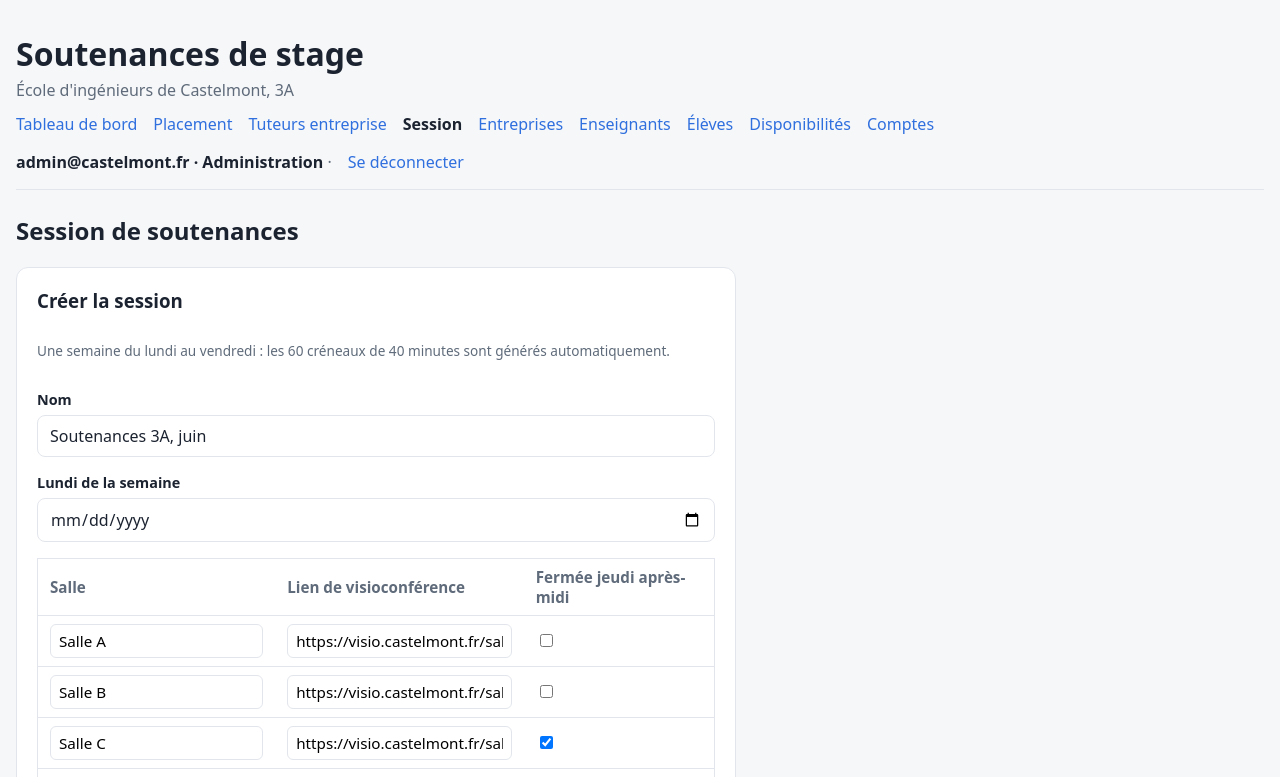
Test: SessionPage › says so when the chosen day is not a Monday (422)
The image size is (1280, 777).
In the date field labelled "Lundi de la semaine": (376, 520) [37,498,715,542], type "2027-06-22"
(page scrolled)
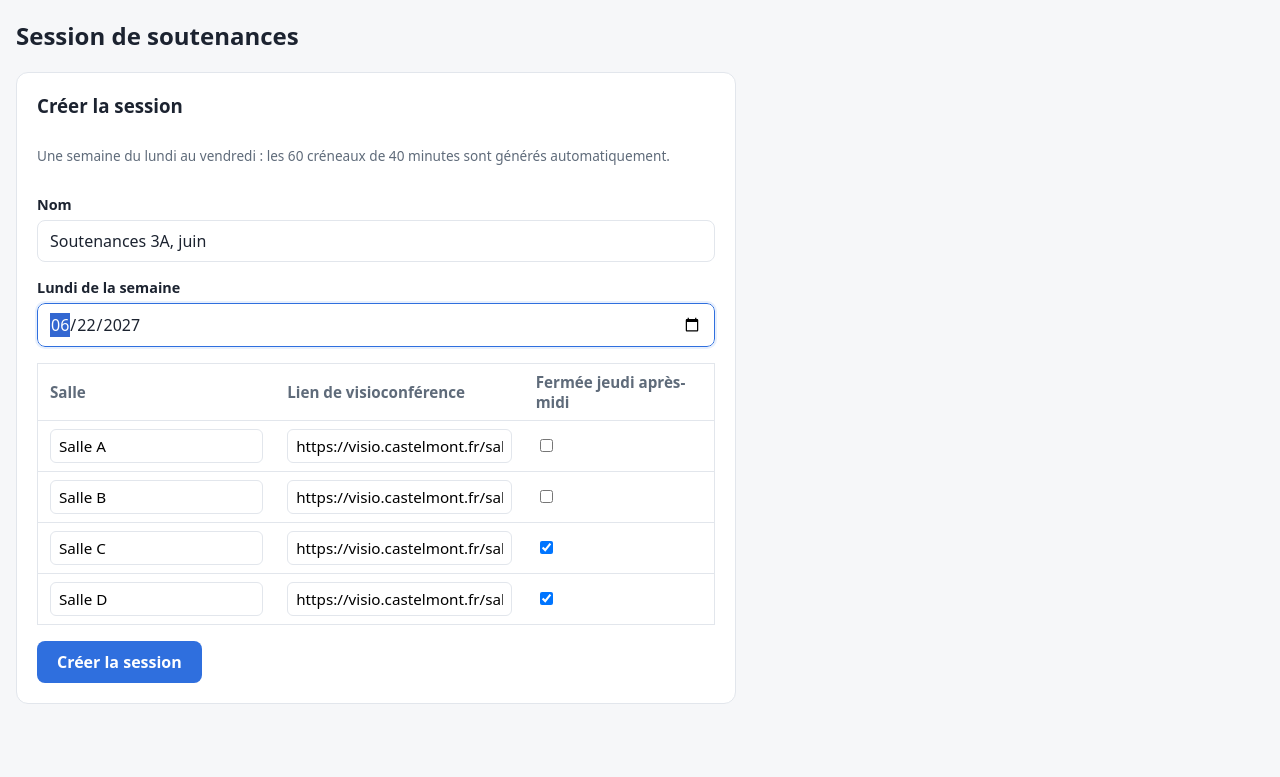
Click the button "Créer la session": (119, 662) [37,640,202,682]
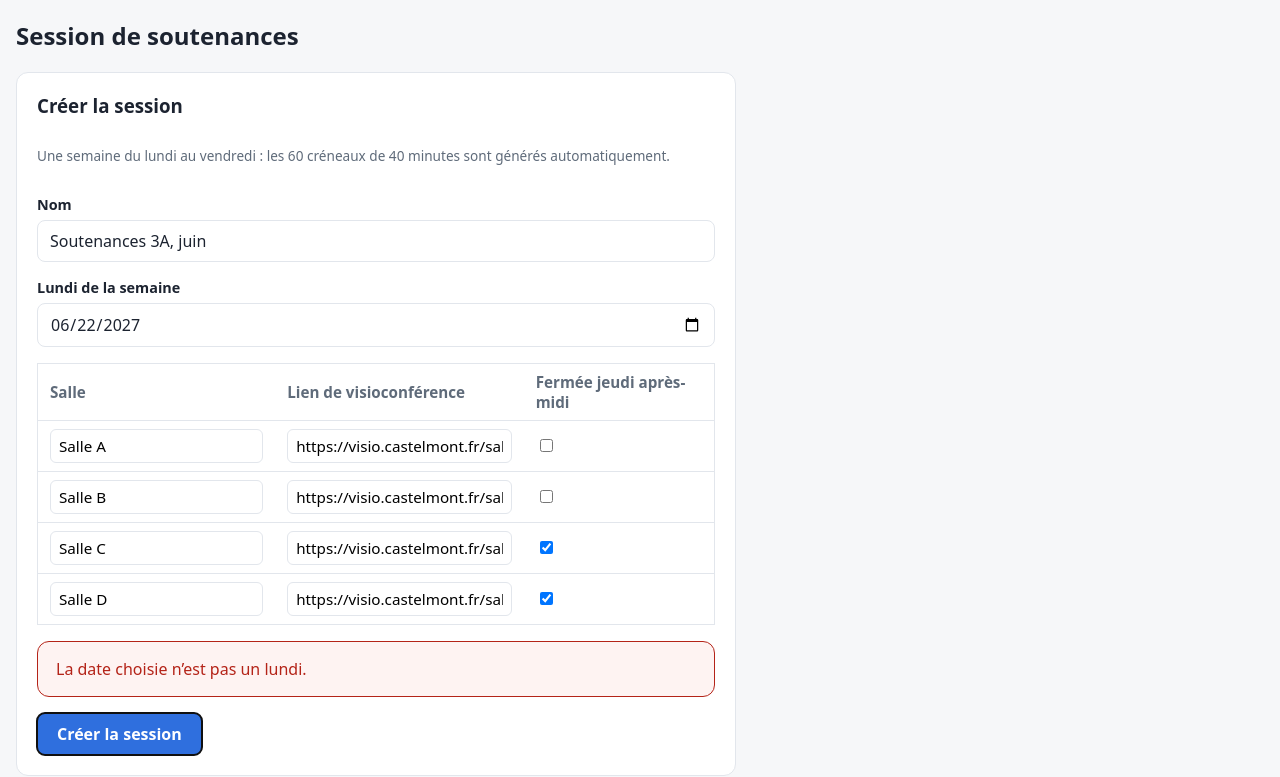
Expected: the message reads "La date choisie n’est pas un lundi.", [56,658,307,680]
